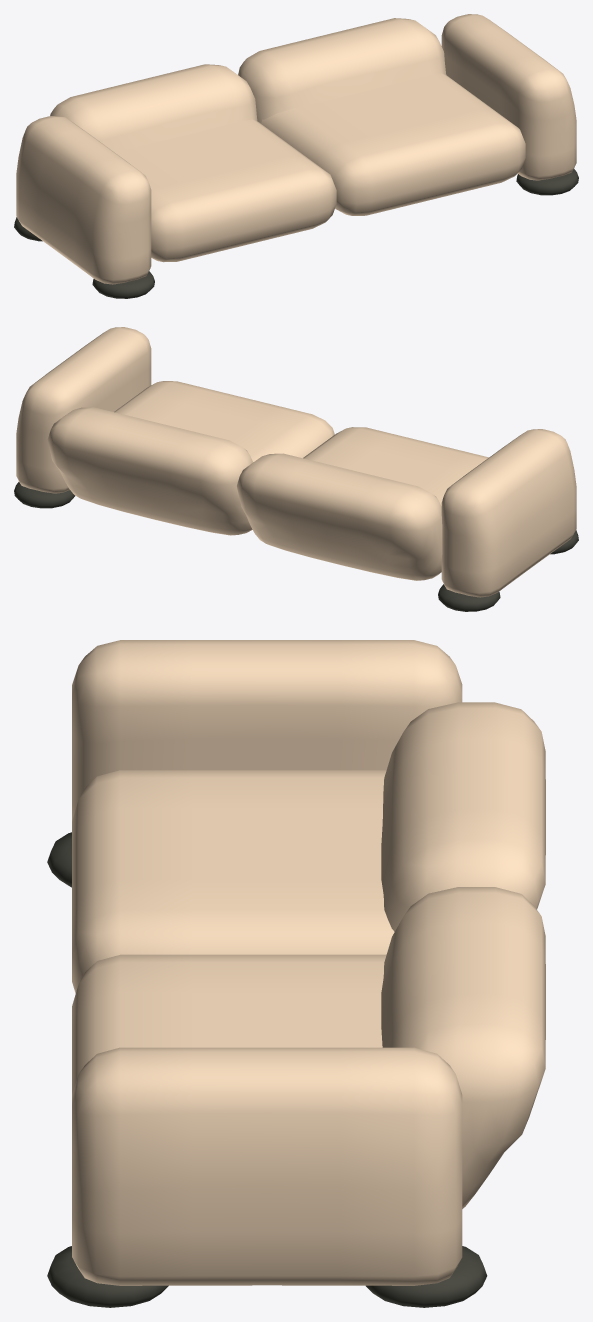
Rendered from OT_083_deluxe_couch.glb.
3 renders of one model, top to bottom at view 1: azimuth 30°, elevation 25°; view 2: azimuth 150°, elevation 25°; view 3: azimuth 270°, elevation 25°, orthographic. The views are drawn at different scales.
Visible parts, largest first — view 1: armchair, legs; view 2: armchair, legs; view 3: armchair, legs.
Boxes of the visible parts, x1,y1,x2,y2 form: armchair: (16, 14, 576, 284); legs: (14, 169, 578, 298); armchair: (16, 327, 576, 597); legs: (14, 482, 578, 611); armchair: (72, 640, 545, 1285); legs: (47, 832, 487, 1307).
Bounding box in the file's own units: 2.99 × 0.6909 × 1.34.
